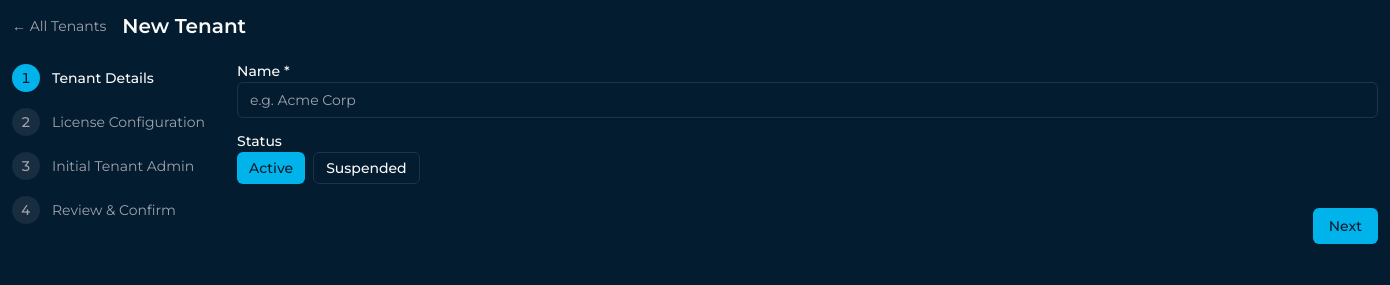
Test: TenantProvisioningPage › step 1 validation: clicking Next with empty name shows error and stays on step 1
The width and height of the screenshot is (1390, 285).
Click the button "Next". click: (1345, 226)
box: [1313,208,1378,244]
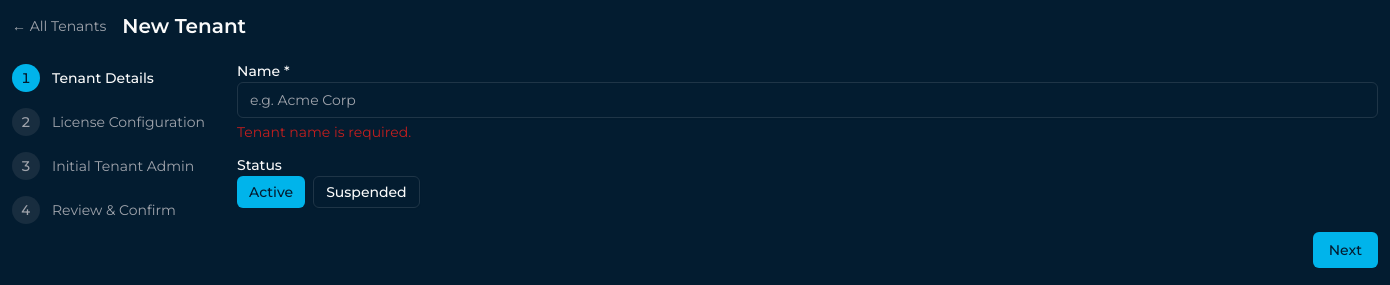
Expected: the field labelled "Name *" is shown, [237,82,1378,118]
Expected: the text "Tenant name is required." is shown, [237,123,411,141]
